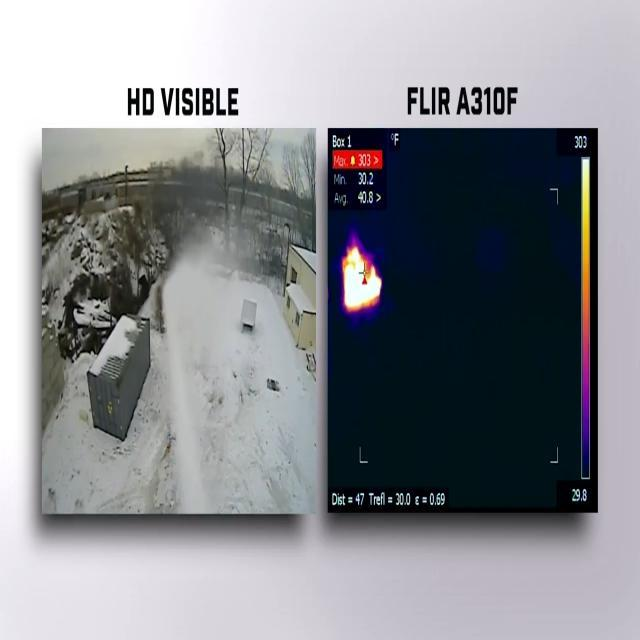fire: (343, 242, 382, 317)
